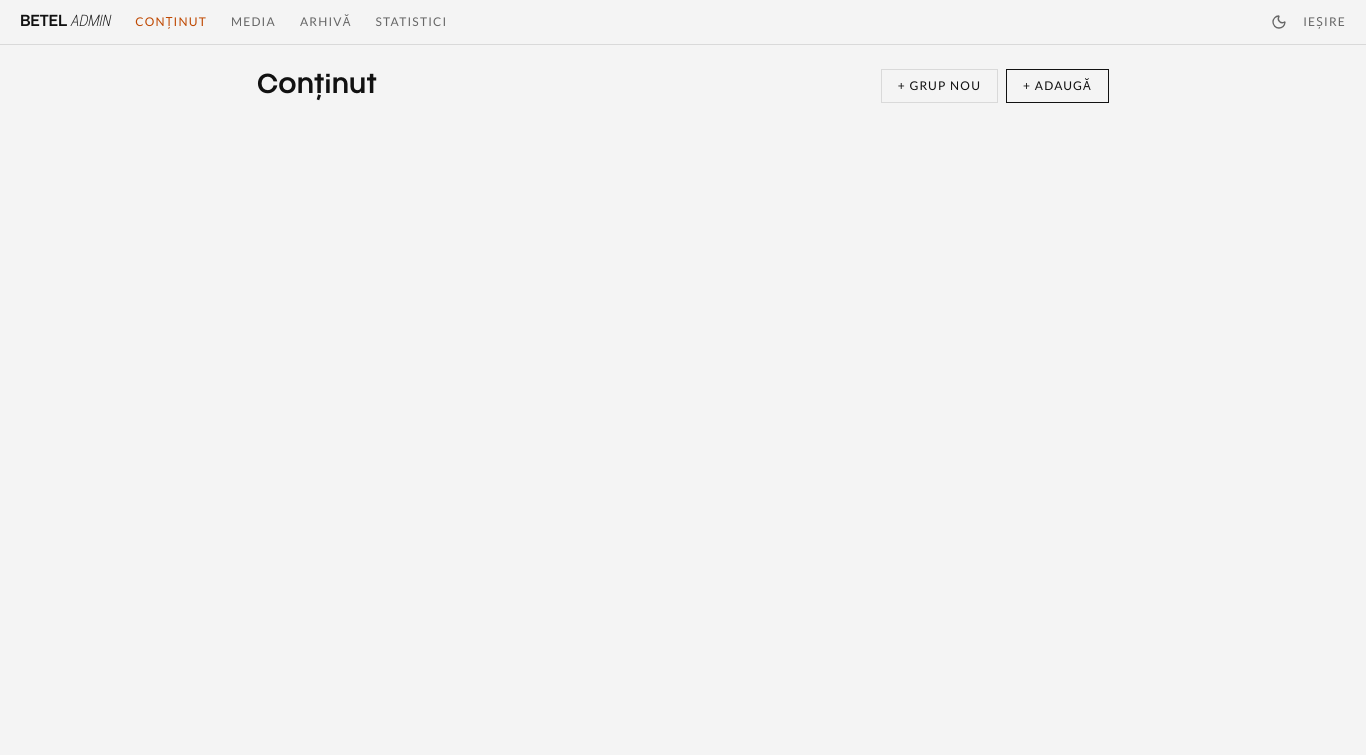
Test: Admin — per-site link overrides: visibility › overrides toggle appears after entering a link
Click the button with test id "create-content-btn".
click(1058, 86)  # box [1006, 69, 1109, 103]
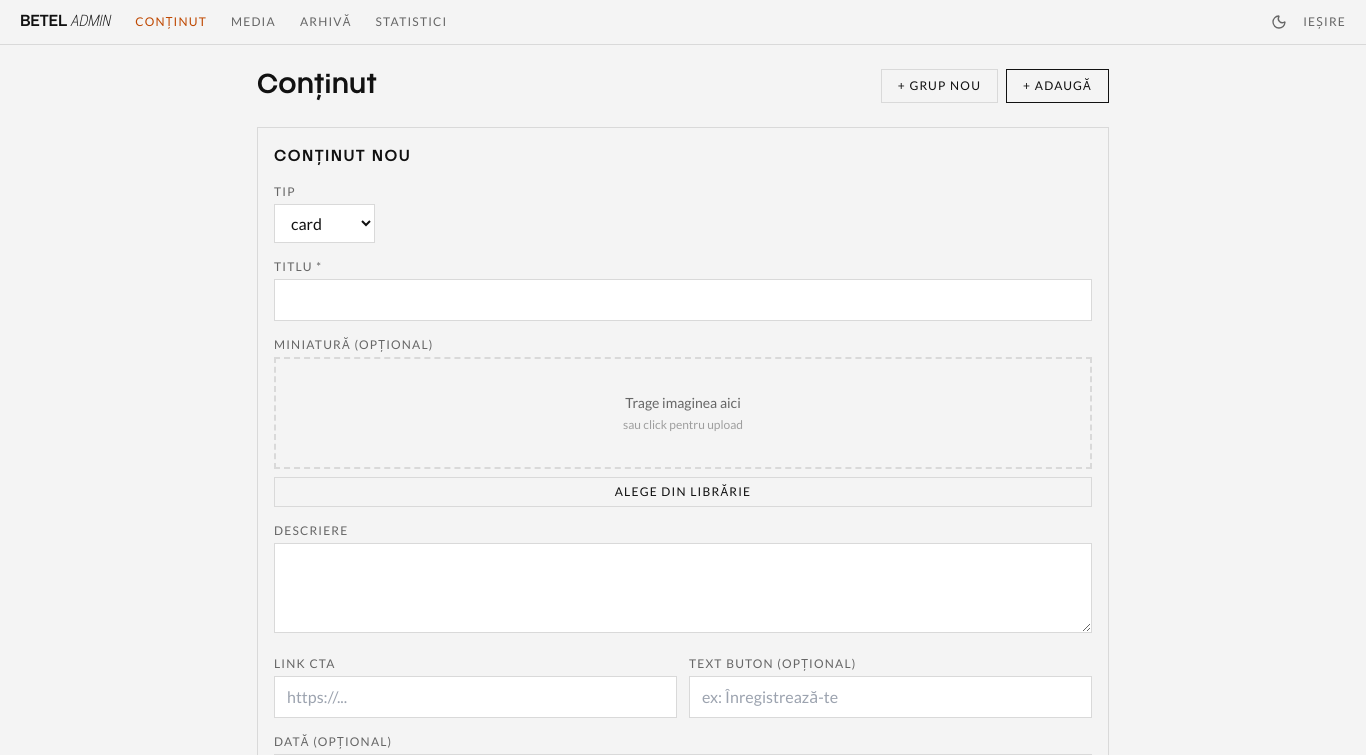
Select "card" in the dropdown with test id "create-type-select" at [325, 224], box [274, 204, 375, 243]
Type "https://betel.ro/donate" into the field with test id "create-link-input".
click(476, 697); type("https://betel.ro/donate")  # box [274, 676, 677, 718]
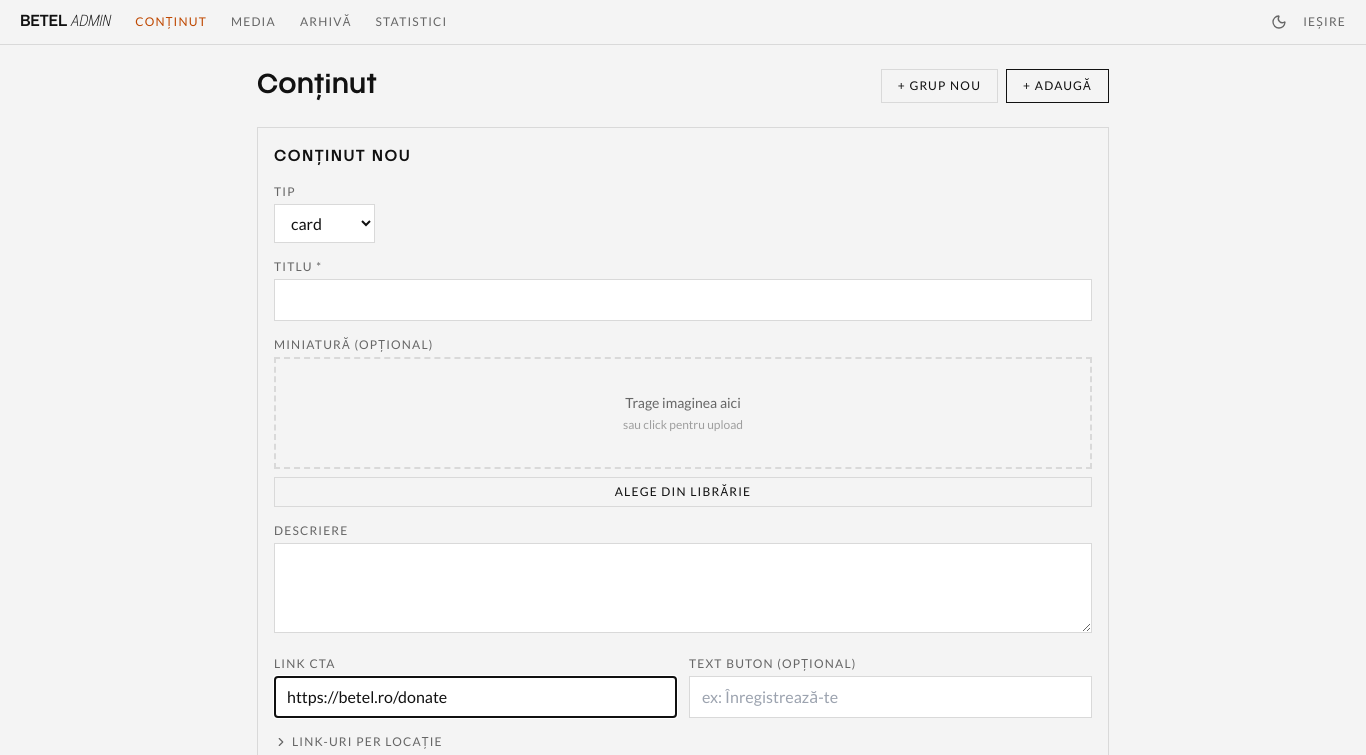
Expected: the button with test id "site-link-overrides-toggle" is shown, [274, 734, 443, 750]
